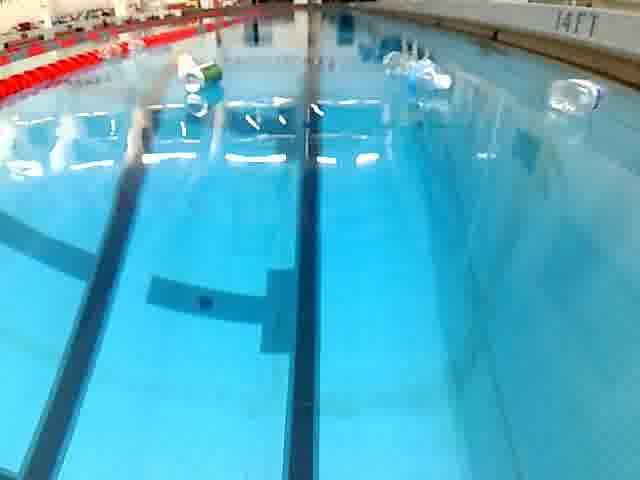Bottle: (380, 48, 460, 96), (536, 74, 610, 118)
Can: (181, 59, 225, 99)
